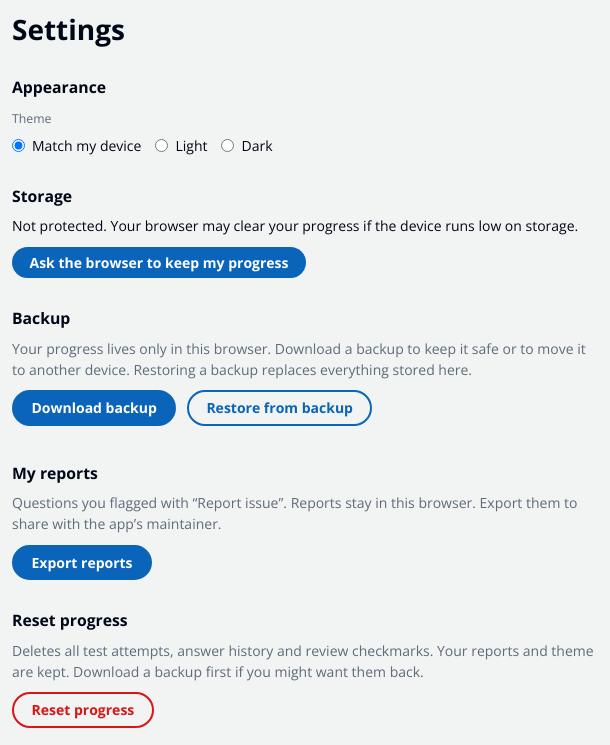
Test: SettingsPage › offers to request protection and shows the result
This screenshot has width=610, height=745.
Check: the text "Not protected." is shown, box left=12, top=216, right=578, bottom=235
Click the button "Ask the browser to keep my progress" at [159, 262], box left=12, top=246, right=306, bottom=278
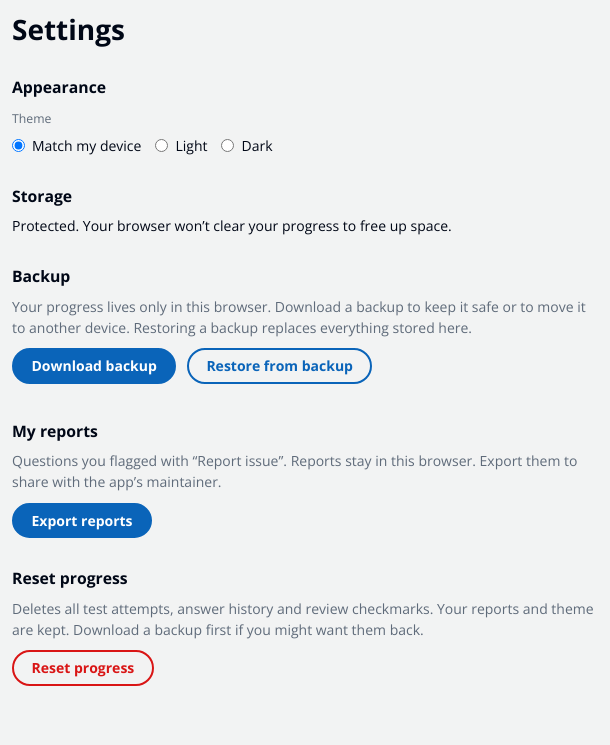
Check: the text "Protected." is shown, box left=12, top=216, right=452, bottom=235
